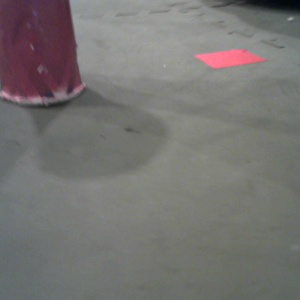middle: (1, 1, 89, 106)
